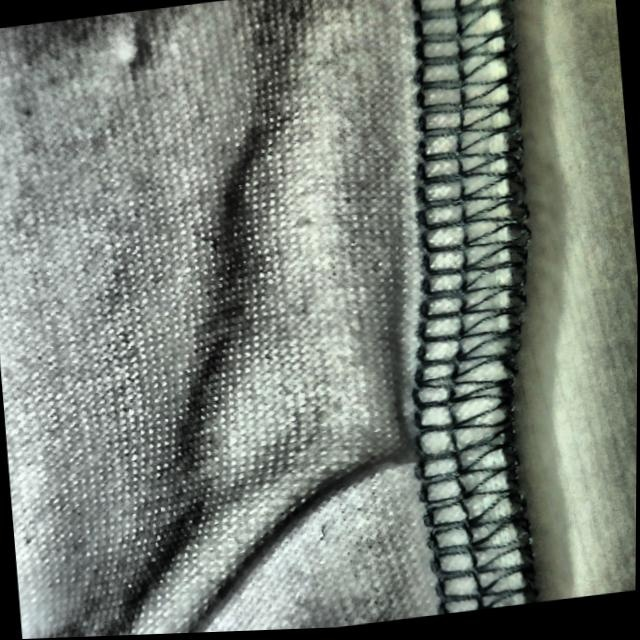seam: (262, 297, 569, 545)
